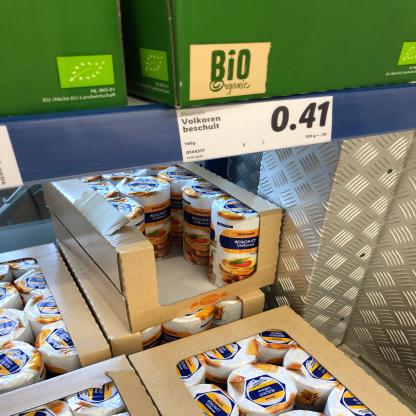prtg: (177, 97, 334, 164)
